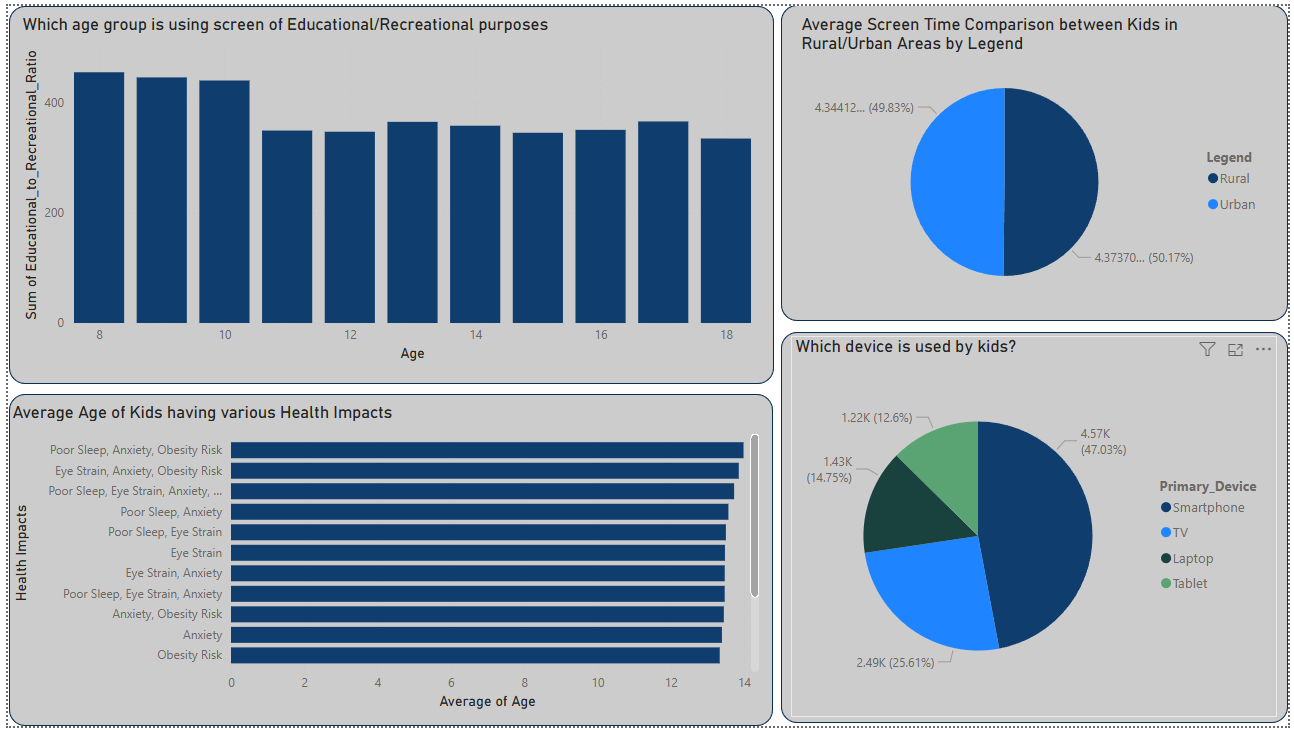

The dashboard page shown, as its layout file describes it:
{"tool":"powerbi","page":{"name":"Page 2","canvas":[1280,720],"ordinal":1},"visuals":[{"type":"group","id":"g1","title":"Group 1","box":[1,-1,1278.7,721.4],"z":0},{"type":"shape","box":[1,0.3,765,377.5],"z":1000,"group":"g1"},{"type":"clusteredBarChart","title":"Average Age of Kids having various Health Impacts","fields":{"Category":["Indian_Kids_Screen_Time.Health_Impacts"],"Y":["Avg(Indian_Kids_Screen_Time.Age)"]},"box":[0,396.2,756.2,311.2],"z":1000},{"type":"shape","box":[773.4,-1,506.2,316.2],"z":2000,"group":"g1"},{"type":"pieChart","fields":{"Category":["Indian_Kids_Screen_Time.Urban_or_Rural"],"Y":["Avg(Indian_Kids_Screen_Time.Avg_Daily_Screen_Time_hr)"]},"box":[788.8,7.5,481.2,298.8],"z":2000},{"type":"columnChart","title":"Which age group is using screen of Educational/Recreational purposes","fields":{"Category":["Indian_Kids_Screen_Time.Age"],"Y":["Sum(Indian_Kids_Screen_Time.Educational_to_Recreational_Ratio)"]},"box":[10,7.5,737.5,352.5],"z":3000},{"type":"pieChart","title":"Which device is used by kids?","fields":{"Category":["Indian_Kids_Screen_Time.Primary_Device"],"Y":["CountNonNull(Indian_Kids_Screen_Time.Primary_Device)"]},"box":[782.5,330,486.2,381.2],"z":4000},{"type":"shape","box":[1.2,387.9,763.8,332.5],"z":4000,"group":"g1"},{"type":"shape","box":[773.4,326,506.2,391.2],"z":5000,"group":"g1"}]}

Visuals, with their boxes in screenshot pixels (x1, y1, x2, y2), scaled from the page's 1280x720 canvas onto the 1294x730 screenshot:
"Group 1" group: x1=1 y1=0 x2=1293 y2=729
shape: x1=1 y1=0 x2=774 y2=383
"Average Age of Kids having various Health Impacts" clusteredBarChart: x1=0 y1=402 x2=764 y2=717
shape: x1=782 y1=0 x2=1293 y2=320
pieChart - Indian_Kids_Screen_Time.Urban_or_Rural x Avg(Indian_Kids_Screen_Time.Avg_Daily_Screen_Time_hr): x1=797 y1=8 x2=1284 y2=311
"Which age group is using screen of Educational/Recreational purposes" columnChart: x1=10 y1=8 x2=756 y2=365
"Which device is used by kids?" pieChart: x1=791 y1=335 x2=1283 y2=721
shape: x1=1 y1=393 x2=773 y2=729
shape: x1=782 y1=331 x2=1293 y2=727
